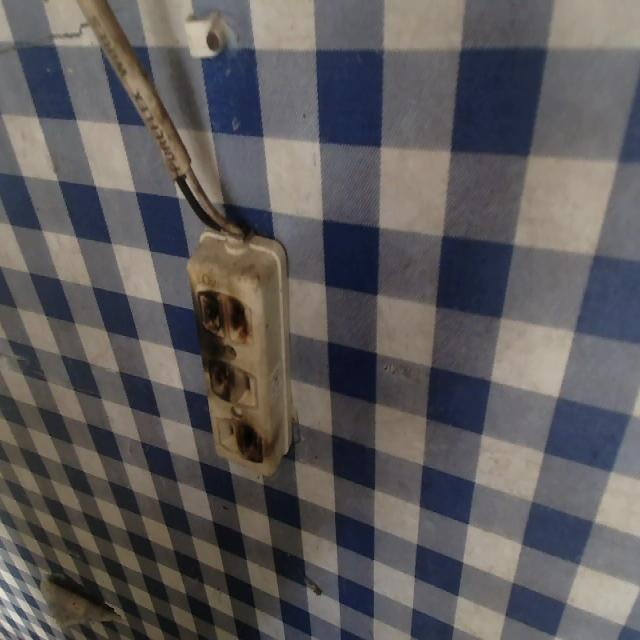-: (191, 278, 261, 350), (200, 346, 242, 410), (229, 405, 267, 467)
